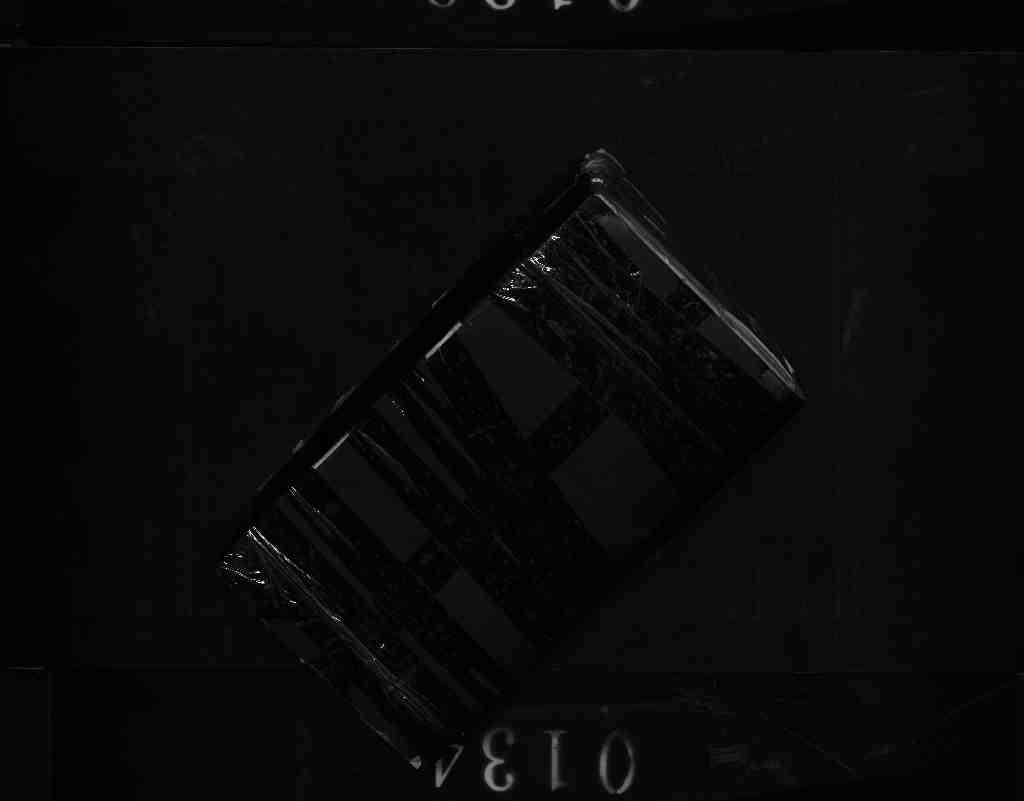box: (231, 127, 815, 772)
